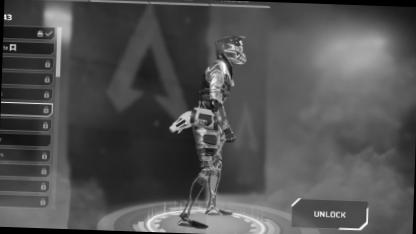Target: (173, 32, 249, 188)
